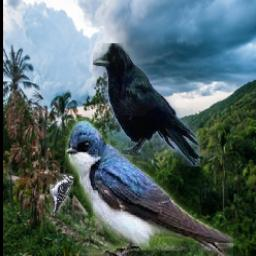Crow: (93, 43, 200, 166)
Swallow: (66, 119, 234, 256)
Woodpecker: (51, 173, 74, 216)
